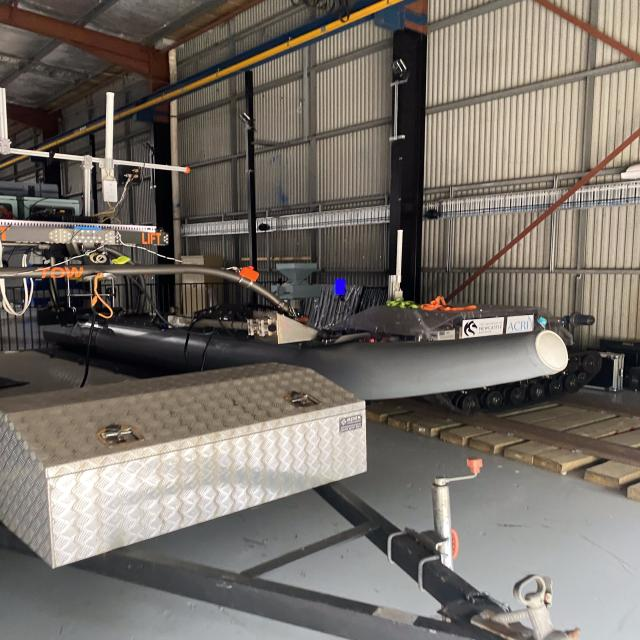matrix: (333, 278, 348, 296)
